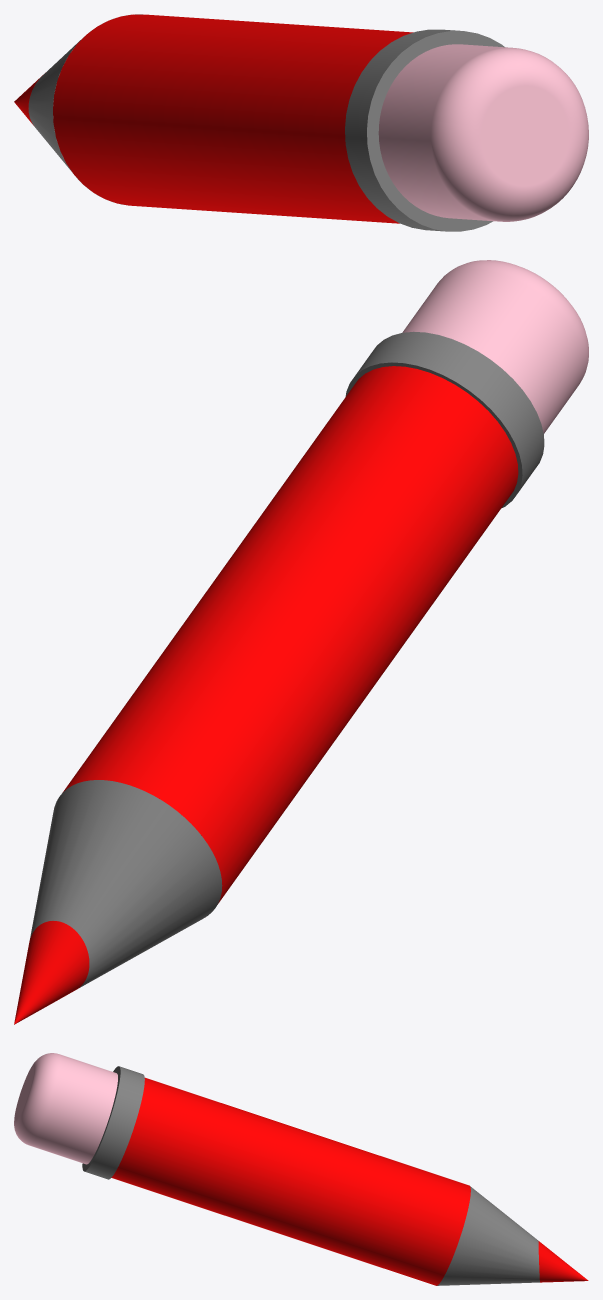
The model's file is DrawTool.fbx.
The picture shows the model from 3 angles, top to bottom: view 1: azimuth 30°, elevation 25°; view 2: azimuth 150°, elevation 25°; view 3: azimuth 270°, elevation 25°; orthographic projection. The views are drawn at different scales.
Visible parts, largest first — view 1: Object_5, Object_1, Object_6, Object_2, Object_4; view 2: Object_5, Object_2, Object_1, Object_6, Object_4; view 3: Object_5, Object_1, Object_2, Object_6, Object_4.
Boxes of the visible parts, x1=… form: Object_5: x1=53, y1=14, x2=413, y2=223; Object_1: x1=378, y1=44, x2=588, y2=221; Object_6: x1=345, y1=29, x2=504, y2=231; Object_2: x1=28, y1=14, x2=142, y2=204; Object_4: x1=14, y1=72, x2=45, y2=125; Object_5: x1=62, y1=366, x2=518, y2=904; Object_2: x1=30, y1=780, x2=222, y2=987; Object_1: x1=402, y1=260, x2=588, y2=433; Object_6: x1=345, y1=331, x2=544, y2=508; Object_4: x1=14, y1=921, x2=89, y2=1024; Object_5: x1=111, y1=1077, x2=470, y2=1285; Object_1: x1=14, y1=1053, x2=117, y2=1164; Object_2: x1=437, y1=1186, x2=539, y2=1285; Object_6: x1=82, y1=1066, x2=144, y2=1179; Object_4: x1=538, y1=1241, x2=588, y2=1282.
Bounding box in the file's own units: 2.71 × 6.03 × 14.08.
